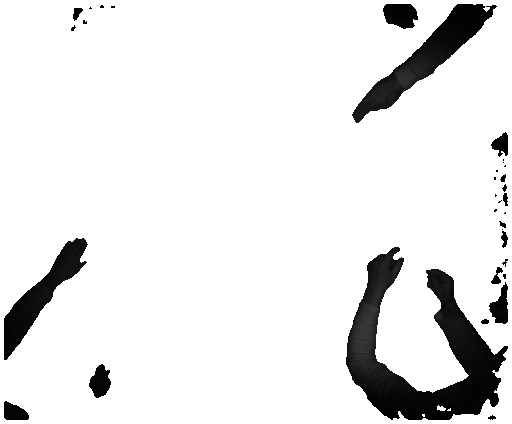hand: (352, 241, 407, 301), (352, 81, 402, 127), (53, 232, 87, 285), (424, 265, 463, 307)
